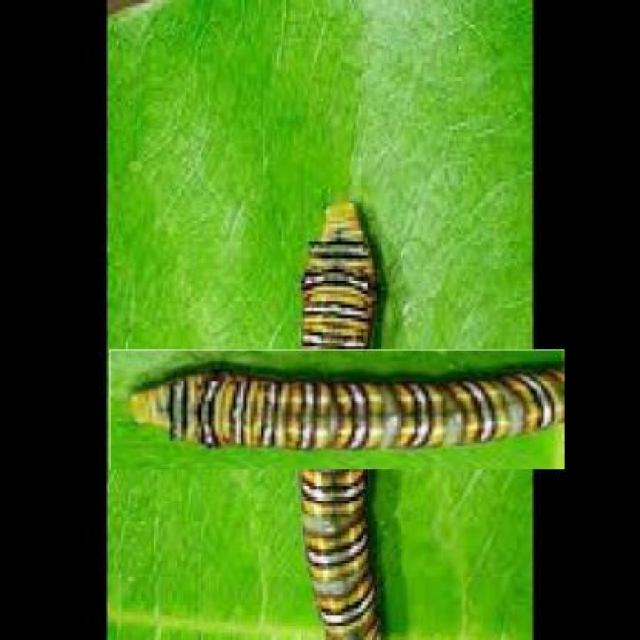Plaga: (194, 267, 483, 556)
